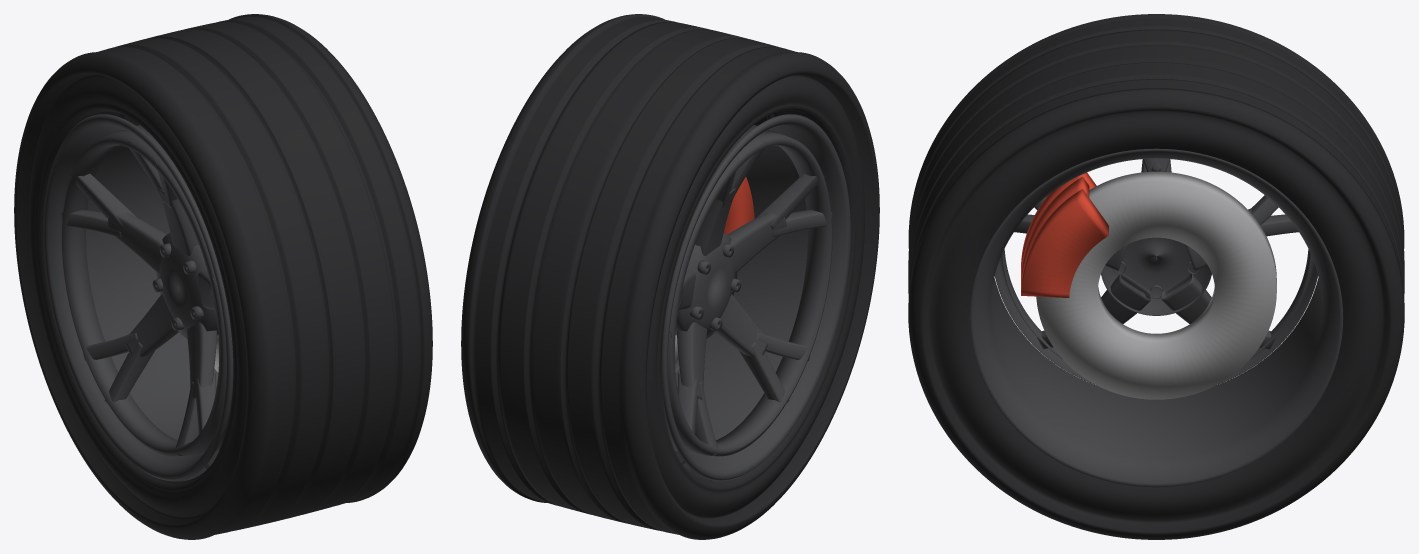
File: wheel_RL.fbx
The picture shows the model from 3 angles, left to right: view 1: azimuth 30°, elevation 25°; view 2: azimuth 150°, elevation 25°; view 3: azimuth 270°, elevation 25°; orthographic projection.
Visible parts, largest first — view 1: CH_Wheel_RL_Tire, CH_Wheel_RL_Rim; view 2: CH_Wheel_RL_Tire, CH_Wheel_RL_Rim, CH_Wheel_RL_Caliper; view 3: CH_Wheel_RL_Tire, CH_Wheel_RL_Rim, CH_Wheel_RL_Disc, CH_Wheel_RL_Caliper.
Boxes of the visible parts, x1,y1,x2,y2 form: CH_Wheel_RL_Tire: (14, 14, 432, 539); CH_Wheel_RL_Rim: (43, 114, 233, 481); CH_Wheel_RL_Tire: (461, 14, 879, 539); CH_Wheel_RL_Rim: (660, 114, 850, 481); CH_Wheel_RL_Caliper: (723, 177, 754, 234); CH_Wheel_RL_Tire: (908, 14, 1404, 539); CH_Wheel_RL_Rim: (969, 148, 1343, 487); CH_Wheel_RL_Disc: (1036, 171, 1276, 399); CH_Wheel_RL_Caliper: (1021, 172, 1108, 297).
Size of the model in its own units: 0.3045 by 0.7215 by 0.7215.
